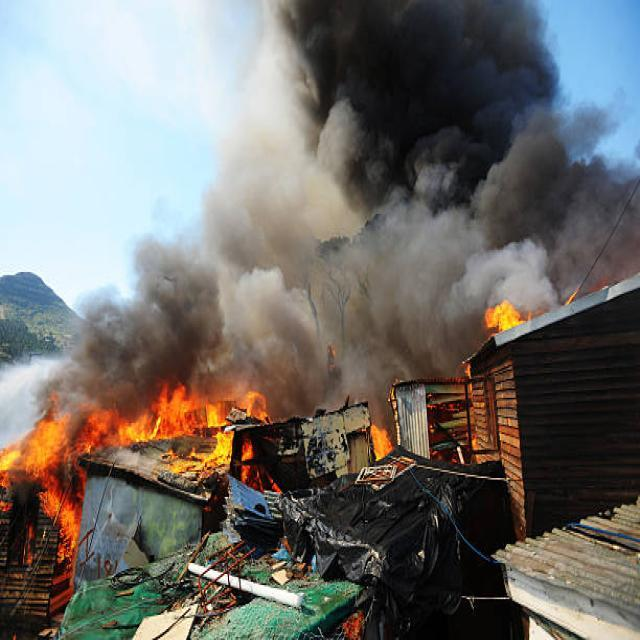Fire: (5, 373, 293, 500), (354, 403, 416, 473), (484, 296, 528, 352)
Smoke: (248, 0, 638, 318), (92, 219, 424, 459)
